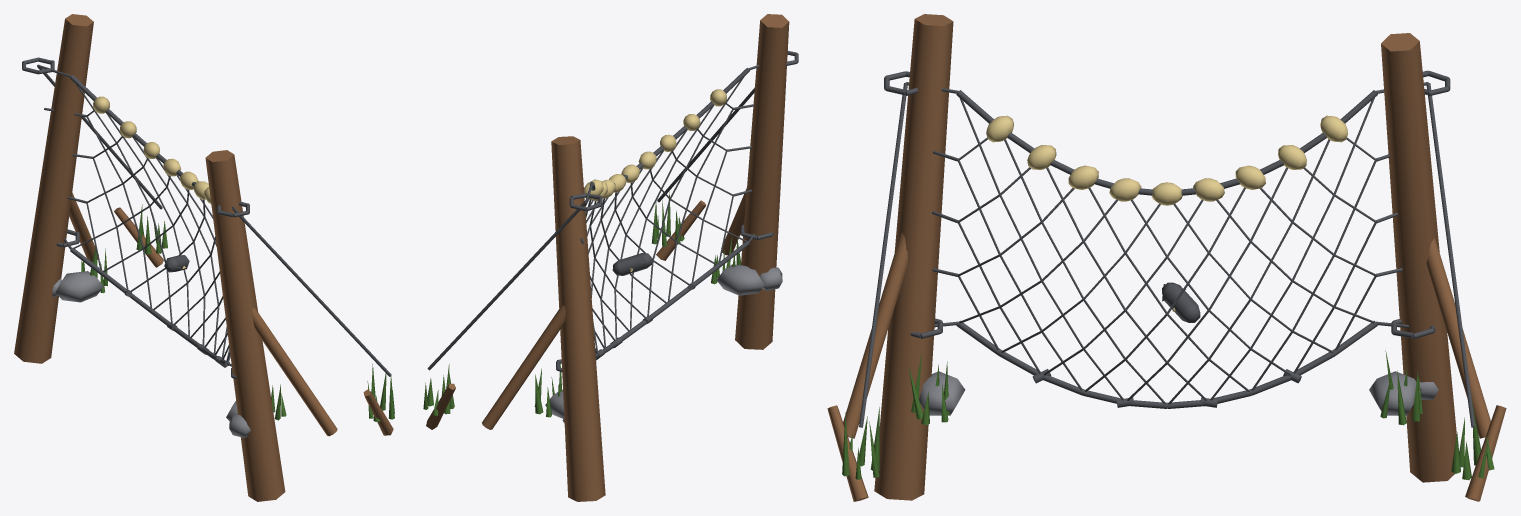
Rendered from shore-net.glb.
The picture shows the model from 3 angles, left to right: view 1: azimuth 30°, elevation 25°; view 2: azimuth 150°, elevation 25°; view 3: azimuth 270°, elevation 25°; orthographic projection. The views are drawn at different scales.
Visible parts, largest first — view 1: Mesh_StakeA, Mesh_StakeB, Mesh_BraceB, Mesh_RockA1, Mesh_GuyRopeB, Mesh_BraceA, Mesh_PegA, Mesh_PegB, Mesh_GuyRopeA; view 2: Mesh_StakeA, Mesh_StakeB, Mesh_BraceA, Mesh_RockB1, Mesh_GuyRopeA, Mesh_FishBody, Mesh_BraceB, Mesh_PegB, Mesh_GuyRopeB, Mesh_PegA; view 3: Mesh_StakeB, Mesh_StakeA, Mesh_BraceB, Mesh_BraceA, Mesh_GuyRopeA, Mesh_GuyRopeB, Mesh_RockA1, Mesh_RockB1, Mesh_PegA, Mesh_PegB, Mesh_FishBody.
Boxes of the visible parts, x1,y1,x2,y2 form: Mesh_StakeA: (14,14,93,363); Mesh_StakeB: (205,150,285,501); Mesh_BraceB: (252,308,337,436); Mesh_RockA1: (55,271,103,302); Mesh_GuyRopeB: (232,208,391,376); Mesh_BraceA: (69,193,98,261); Mesh_PegA: (114,207,163,267); Mesh_PegB: (363,389,393,435); Mesh_GuyRopeA: (37,65,162,209); Mesh_StakeA: (551,136,605,501); Mesh_StakeB: (735,14,789,349); Mesh_BraceA: (482,305,565,429); Mesh_RockB1: (716,264,764,295); Mesh_GuyRopeA: (427,201,587,370); Mesh_FishBody: (612,253,652,275); Mesh_BraceB: (721,188,746,255); Mesh_PegB: (656,200,706,260); Mesh_GuyRopeB: (657,87,754,202); Mesh_PegA: (426,383,455,429); Mesh_StakeB: (874,14,953,500); Mesh_StakeA: (1381,33,1456,482); Mesh_BraceB: (843,232,907,438); Mesh_BraceA: (1426,238,1490,438); Mesh_GuyRopeA: (1426,83,1475,427); Mesh_GuyRopeB: (859,83,907,427); Mesh_RockA1: (1369,371,1421,415); Mesh_RockB1: (919,371,965,415); Mesh_PegA: (1465,405,1506,501); Mesh_PegB: (827,405,868,501); Mesh_FishBody: (1162,282,1200,322).
Size of the model in its own units: 0.8958 by 1.81 by 2.44.
3 materials, 3 textured.
